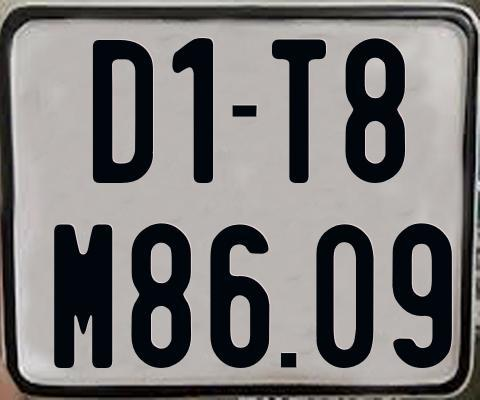0: (315, 224, 375, 368)
1: (171, 37, 215, 184)
6: (208, 223, 272, 368)
8: (129, 221, 195, 367), (345, 36, 409, 182)
9: (390, 222, 456, 373)
D: (90, 40, 155, 184)
M: (52, 222, 112, 366)
T: (271, 36, 330, 182)
